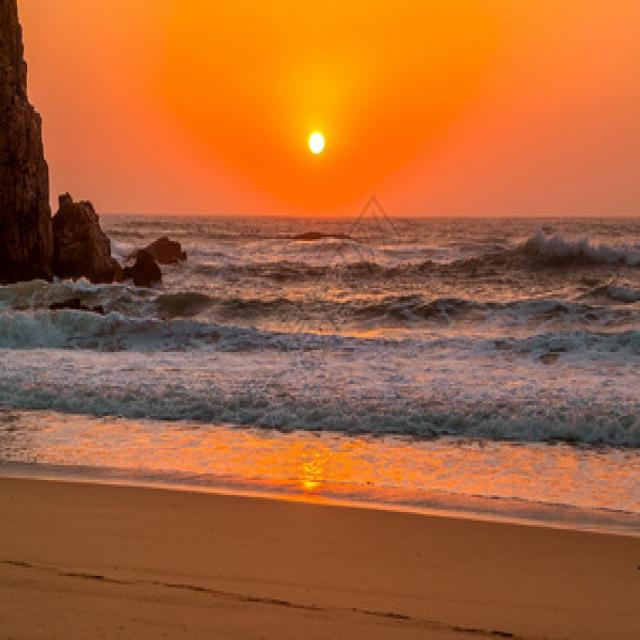reef: (39, 182, 210, 292)
